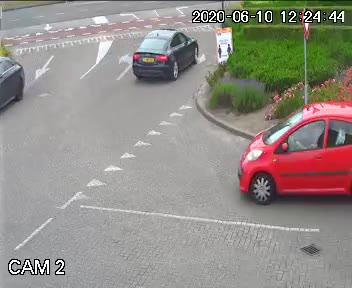car: (230, 86, 352, 236), (127, 29, 202, 88)
